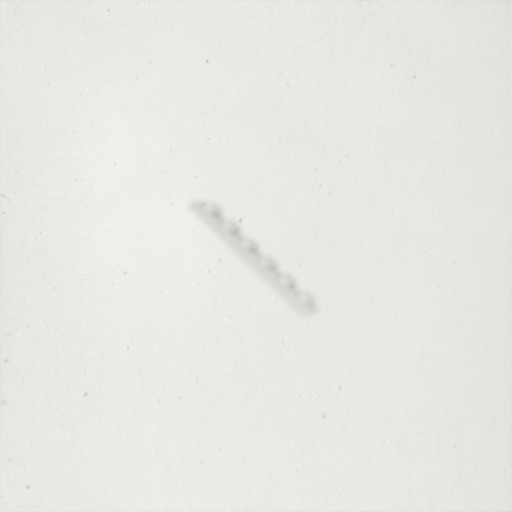lego: (187, 199, 321, 317)
